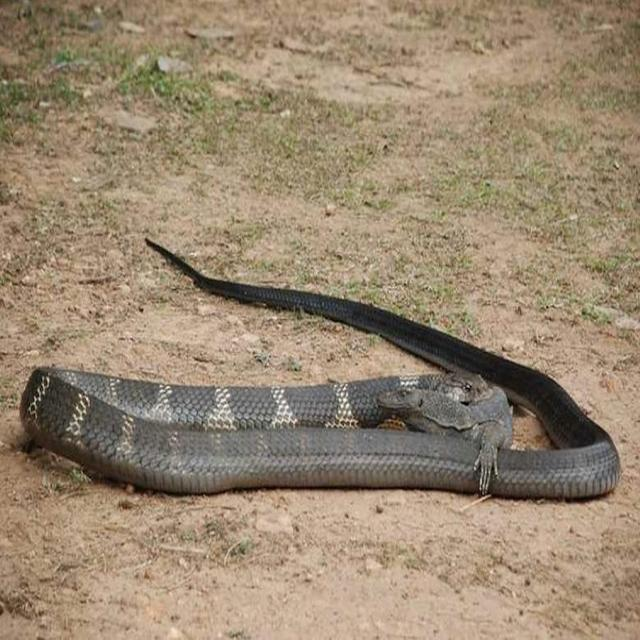Snake: (18, 235, 621, 501)
